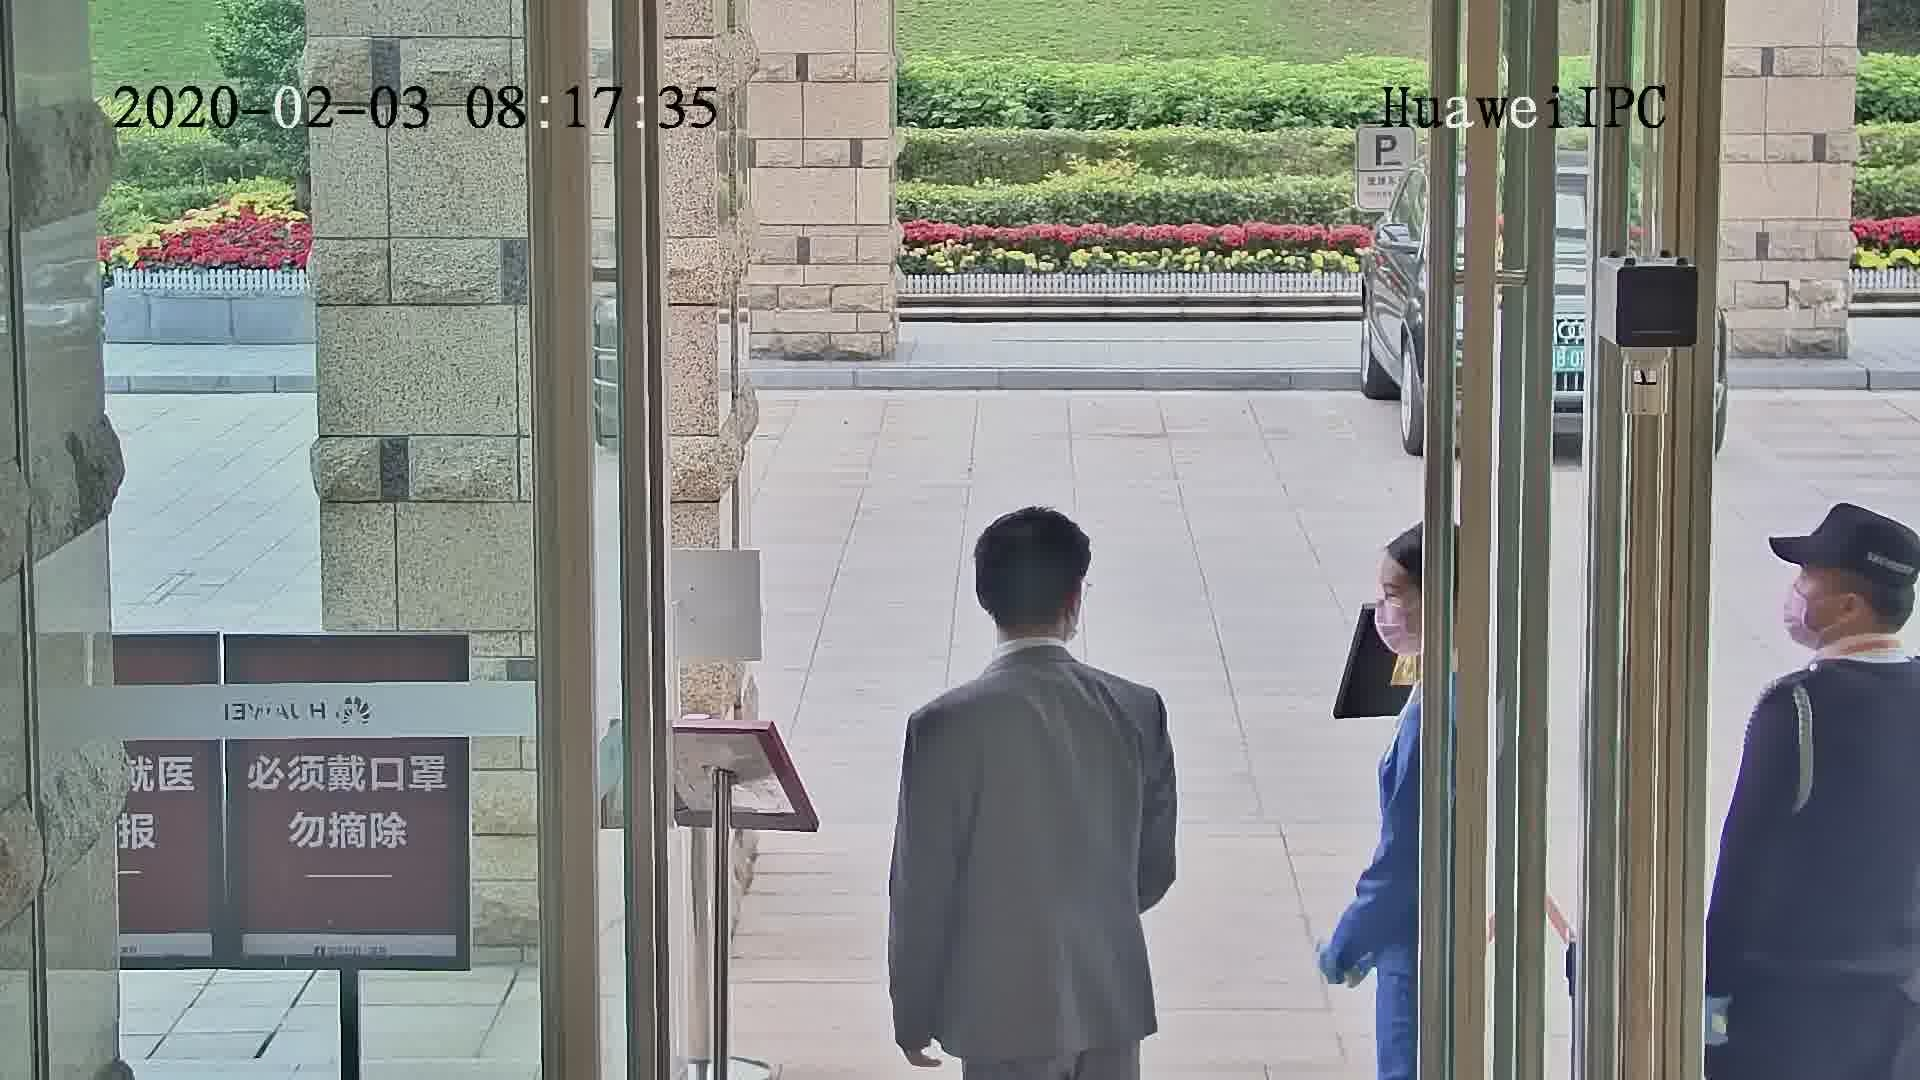face: (1367, 553, 1423, 655), (1780, 571, 1840, 649)
mask: (1778, 589, 1827, 651), (1374, 593, 1418, 660)
person: (894, 499, 1173, 794), (1735, 505, 1920, 780)
